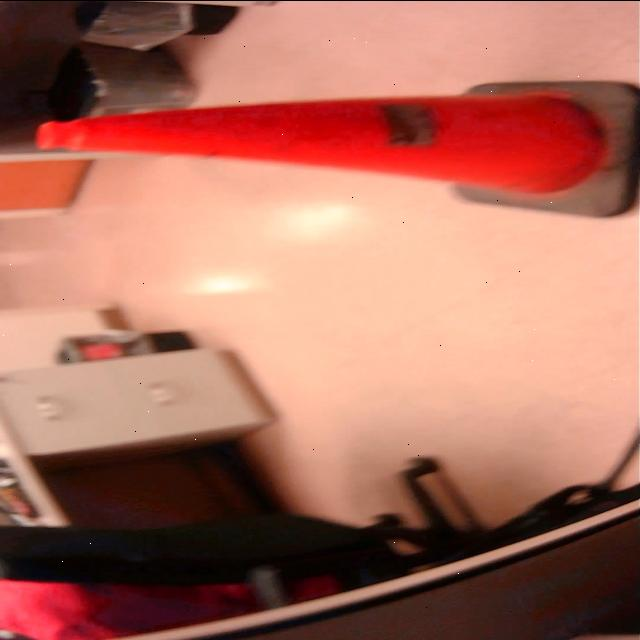traffic cone: (30, 76, 640, 224)
